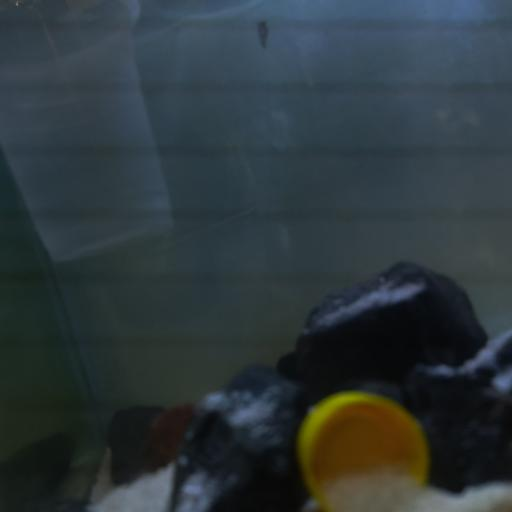bottle_cap: (297, 387, 430, 503)
plastic_cup: (2, 2, 177, 273)
